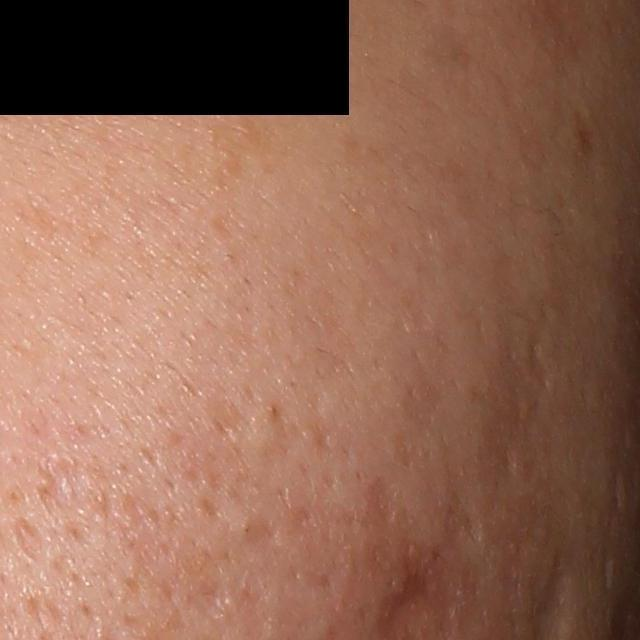atrophic_scar: (32, 453, 107, 530), (434, 471, 481, 546), (4, 518, 55, 573), (517, 325, 552, 395), (189, 574, 233, 623), (243, 510, 279, 553)
melasma: (205, 90, 284, 200)
